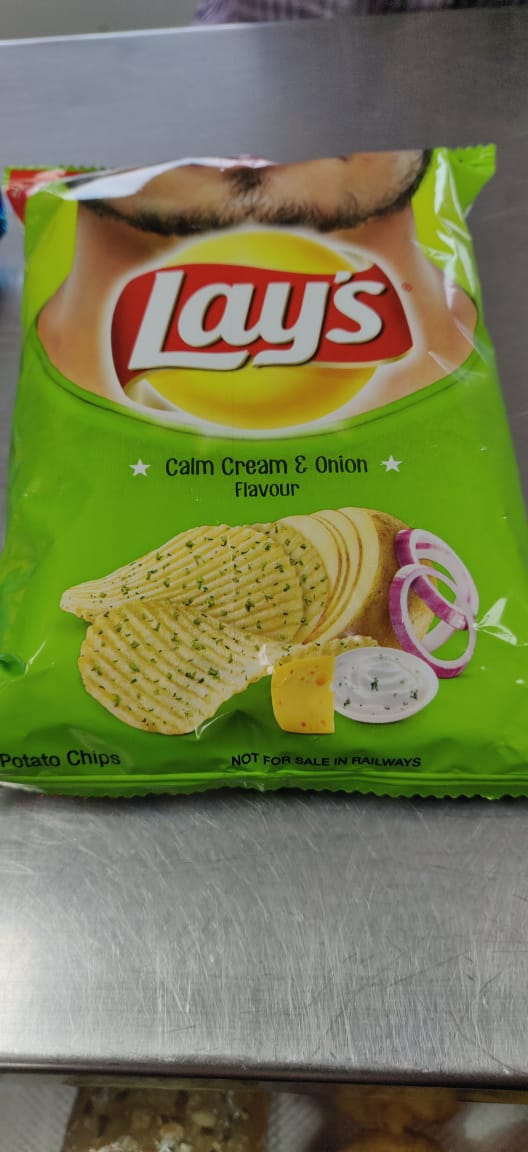lays chips: (6, 146, 528, 860)
